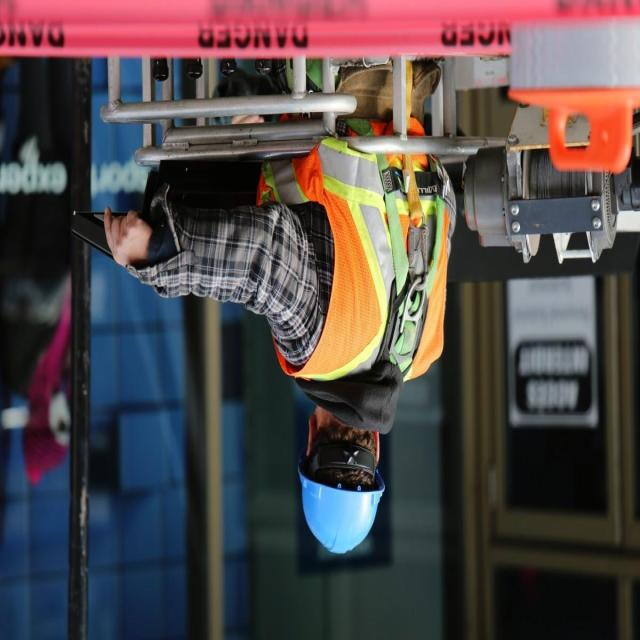helmet: (293, 466, 389, 564)
jacket: (246, 117, 462, 393)
